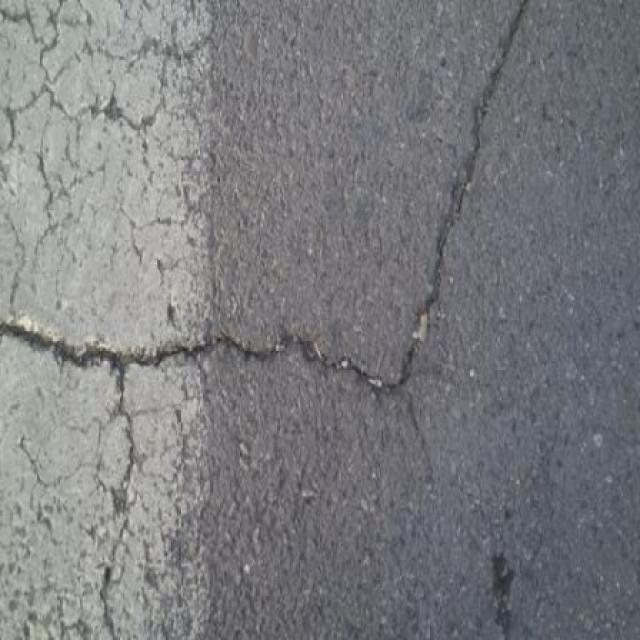Diagonal Crack: (0, 0, 535, 640), (0, 0, 215, 301), (484, 538, 519, 640)
